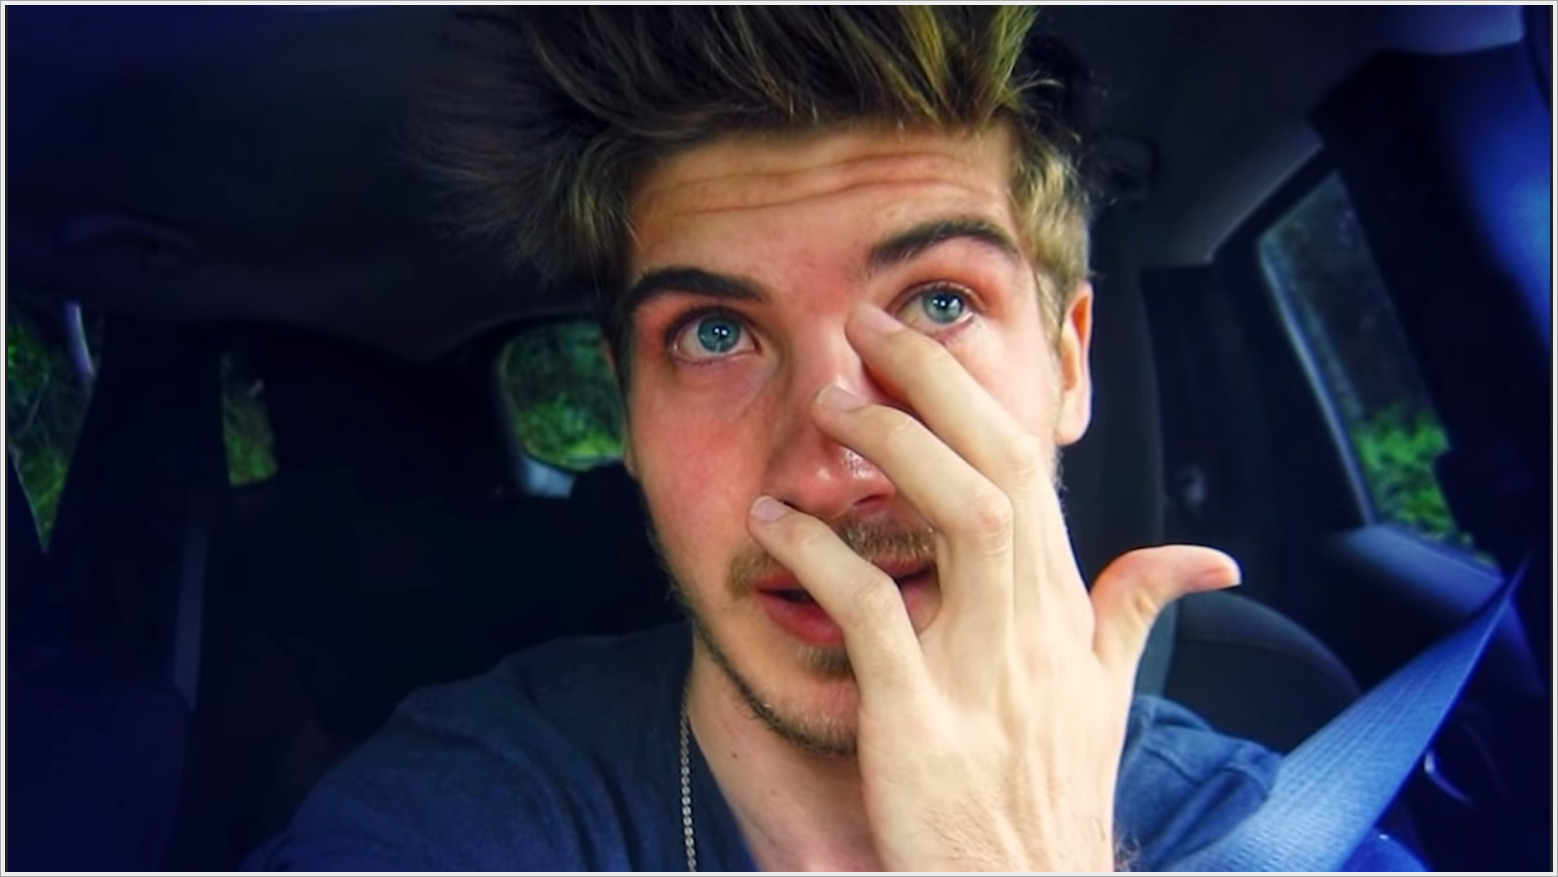hand: (747, 296, 1241, 873)
